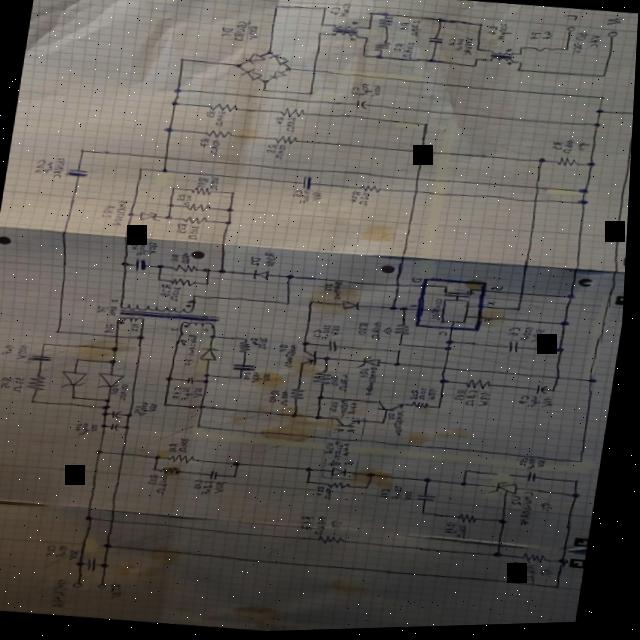capacitor: (28, 352, 56, 363), (233, 363, 260, 374), (63, 167, 90, 178), (299, 176, 314, 192), (423, 37, 444, 48), (134, 258, 150, 272), (89, 556, 103, 572), (508, 343, 522, 358), (418, 495, 441, 504), (329, 341, 342, 355), (353, 100, 368, 112), (537, 386, 551, 398), (529, 472, 541, 486), (211, 470, 224, 481), (113, 410, 127, 420), (186, 376, 198, 385), (112, 423, 124, 432)
crossover: (411, 177, 422, 185), (440, 367, 452, 374), (160, 155, 171, 162), (120, 451, 131, 458), (307, 69, 318, 76), (532, 187, 543, 194), (518, 293, 528, 300), (417, 151, 427, 158), (393, 284, 403, 291), (531, 201, 541, 208), (111, 518, 120, 525), (411, 192, 420, 198), (555, 378, 564, 384), (200, 404, 208, 410), (114, 335, 122, 340)
diode: (96, 371, 127, 391), (61, 370, 89, 390), (359, 356, 385, 372), (237, 67, 263, 82), (266, 53, 289, 68), (242, 52, 265, 67), (201, 347, 222, 363), (251, 268, 272, 283), (342, 300, 363, 314), (139, 211, 160, 223), (266, 70, 286, 82)
junction: (560, 560, 574, 571), (560, 322, 573, 331), (576, 191, 590, 199), (535, 159, 547, 167), (566, 295, 578, 303), (285, 274, 297, 282), (439, 379, 452, 386), (576, 201, 589, 208), (495, 553, 507, 560), (588, 380, 600, 387), (162, 127, 174, 134), (165, 203, 177, 210), (234, 461, 244, 469), (500, 520, 511, 527), (159, 167, 170, 174), (79, 560, 90, 567), (210, 334, 221, 341), (425, 59, 436, 66), (434, 19, 445, 26), (574, 495, 584, 502), (157, 263, 167, 270), (591, 124, 601, 131), (218, 269, 228, 276), (137, 334, 148, 340), (319, 395, 328, 402), (324, 356, 333, 363), (127, 412, 136, 419), (593, 111, 603, 117), (172, 88, 182, 94), (426, 479, 436, 485), (111, 346, 121, 352), (88, 515, 98, 521), (307, 467, 317, 473), (104, 563, 114, 569), (303, 342, 313, 348), (389, 307, 399, 313), (400, 307, 410, 313), (104, 404, 114, 410), (226, 207, 234, 214), (225, 220, 233, 227), (233, 63, 241, 70), (556, 350, 567, 355), (121, 261, 130, 267), (166, 376, 175, 382), (98, 449, 107, 455), (586, 164, 595, 170), (107, 543, 116, 549), (395, 362, 404, 368), (317, 415, 326, 421), (169, 100, 178, 106), (421, 123, 430, 129), (204, 268, 213, 274), (292, 414, 302, 419), (164, 215, 174, 220), (204, 374, 214, 379), (446, 342, 456, 347), (469, 65, 477, 71), (233, 475, 241, 481), (104, 411, 112, 417), (283, 67, 291, 73), (127, 211, 135, 217), (462, 483, 471, 488), (111, 359, 120, 364), (475, 24, 484, 29), (258, 88, 267, 93), (513, 70, 522, 75), (516, 309, 525, 314), (306, 481, 315, 486), (446, 348, 455, 353), (398, 344, 407, 349), (105, 398, 114, 403), (102, 424, 111, 429), (125, 425, 134, 430), (379, 13, 388, 18), (260, 80, 269, 85), (137, 166, 144, 172), (157, 277, 163, 284), (157, 455, 165, 460), (78, 148, 86, 153), (177, 58, 185, 63), (285, 302, 293, 307), (31, 399, 39, 404), (55, 329, 63, 334), (576, 482, 584, 487), (270, 5, 278, 10), (228, 191, 236, 196), (558, 587, 566, 592), (309, 301, 317, 306), (72, 394, 80, 399), (465, 471, 473, 476), (164, 403, 172, 408), (305, 92, 313, 97), (370, 473, 378, 478), (598, 98, 606, 103), (397, 350, 405, 355), (374, 56, 382, 61), (598, 76, 606, 81), (319, 7, 327, 12), (263, 51, 271, 56), (170, 187, 178, 192), (204, 380, 212, 385), (360, 54, 366, 60), (581, 461, 587, 467), (315, 32, 321, 38), (423, 513, 430, 518), (366, 12, 373, 17), (77, 356, 83, 361), (629, 114, 635, 119), (43, 341, 49, 346), (439, 407, 445, 412), (198, 424, 204, 429), (318, 23, 324, 28), (154, 467, 160, 472), (205, 282, 211, 287), (382, 422, 388, 427), (193, 294, 199, 299), (552, 391, 559, 395), (473, 49, 480, 53), (365, 27, 370, 32), (368, 487, 374, 491), (239, 377, 245, 381), (362, 38, 368, 42), (472, 60, 478, 64), (515, 64, 523, 67), (517, 49, 523, 53), (562, 50, 568, 54), (244, 338, 249, 342), (516, 54, 521, 58)
resistor: (312, 369, 335, 389), (466, 379, 496, 394), (27, 373, 49, 392), (319, 534, 351, 547), (278, 106, 306, 120), (523, 554, 552, 567), (207, 102, 238, 114), (203, 129, 233, 141), (184, 202, 213, 214), (173, 263, 202, 275), (181, 214, 210, 226), (169, 454, 198, 466), (356, 184, 383, 196), (170, 277, 198, 288), (273, 134, 298, 146), (555, 158, 579, 170), (189, 186, 215, 197), (461, 515, 484, 527), (290, 387, 307, 402), (237, 340, 254, 355), (395, 325, 413, 339), (375, 17, 393, 31), (330, 482, 355, 492), (371, 41, 390, 54), (162, 466, 185, 475), (413, 403, 432, 411)
terminal: (604, 33, 618, 42), (100, 582, 113, 591), (75, 581, 89, 589), (564, 28, 575, 36)
text: (520, 493, 540, 528), (111, 199, 131, 228), (186, 332, 201, 367), (367, 368, 382, 398), (570, 33, 587, 58), (54, 588, 73, 610), (285, 344, 301, 370), (395, 413, 410, 438), (231, 20, 247, 42), (52, 156, 67, 179), (431, 299, 445, 323), (370, 322, 386, 342), (112, 582, 129, 600), (494, 25, 511, 43), (335, 2, 352, 20), (331, 282, 346, 302), (316, 517, 331, 537), (243, 24, 259, 42), (159, 475, 172, 497), (467, 391, 482, 410), (339, 374, 353, 394), (400, 42, 414, 62), (263, 252, 279, 269), (17, 342, 32, 360), (169, 285, 184, 303), (207, 139, 222, 157), (282, 117, 297, 134), (213, 111, 228, 128), (14, 376, 29, 393), (512, 563, 528, 578), (187, 225, 202, 241), (302, 517, 318, 532), (526, 569, 541, 585), (461, 38, 473, 58), (59, 543, 74, 559), (521, 328, 536, 344), (532, 330, 548, 345), (136, 240, 150, 257), (406, 22, 419, 40), (120, 383, 132, 402), (336, 442, 348, 461), (479, 393, 494, 408), (585, 37, 600, 52), (204, 480, 218, 496), (101, 204, 117, 218), (32, 158, 46, 174), (281, 391, 294, 408), (274, 144, 287, 161), (159, 284, 174, 298), (447, 524, 462, 538), (459, 527, 473, 542), (394, 487, 408, 502), (358, 84, 372, 99), (562, 142, 576, 157), (182, 387, 196, 402), (2, 375, 17, 389), (603, 19, 622, 30), (180, 438, 193, 454), (357, 323, 371, 337), (529, 397, 543, 411), (455, 391, 471, 403), (322, 325, 334, 341), (195, 177, 211, 189), (175, 222, 189, 235), (48, 544, 62, 557), (253, 371, 266, 385), (270, 391, 283, 405), (146, 241, 159, 255), (3, 343, 17, 356), (57, 577, 71, 590), (542, 399, 557, 411), (542, 503, 557, 515), (509, 328, 524, 340), (359, 194, 371, 209), (209, 176, 221, 191), (141, 402, 153, 417), (217, 26, 233, 37), (342, 401, 352, 418), (217, 482, 230, 495), (348, 192, 361, 205), (193, 387, 206, 400), (326, 443, 339, 456), (149, 474, 163, 486), (513, 497, 527, 509), (359, 369, 373, 381), (429, 389, 441, 403), (180, 252, 192, 266), (264, 143, 278, 155), (198, 137, 212, 149), (333, 520, 348, 531), (82, 421, 93, 436), (299, 191, 310, 206), (543, 570, 558, 581), (560, 16, 578, 25), (484, 26, 496, 39), (72, 549, 85, 561), (105, 322, 118, 334), (369, 86, 381, 99), (310, 192, 323, 204), (173, 387, 185, 400), (381, 490, 395, 501), (529, 459, 540, 473), (452, 39, 463, 53), (249, 256, 263, 267), (576, 145, 591, 155), (344, 444, 354, 459), (195, 479, 207, 491), (170, 442, 182, 454), (406, 492, 418, 504), (131, 322, 143, 334), (411, 391, 423, 403), (259, 338, 270, 351), (520, 397, 533, 408), (332, 325, 343, 338), (43, 161, 54, 174), (350, 403, 361, 416), (96, 304, 111, 313), (317, 487, 329, 498), (331, 377, 343, 388), (330, 402, 342, 413), (279, 343, 291, 354), (312, 330, 325, 340), (540, 33, 553, 43), (551, 144, 564, 154), (204, 110, 217, 120), (327, 489, 337, 502), (421, 389, 430, 403), (521, 459, 533, 469), (384, 327, 396, 337), (391, 44, 403, 54), (326, 8, 339, 17), (250, 338, 263, 347), (528, 34, 541, 43), (273, 117, 286, 126), (539, 462, 550, 472), (109, 306, 119, 317), (264, 373, 275, 383), (348, 87, 359, 97), (398, 23, 409, 33), (130, 242, 141, 252), (170, 254, 182, 263), (323, 284, 335, 293), (184, 195, 193, 207), (445, 39, 455, 49), (151, 403, 161, 413), (293, 190, 304, 199), (388, 414, 399, 423), (135, 405, 145, 414), (176, 194, 187, 202), (438, 332, 450, 339), (492, 287, 506, 293), (245, 373, 254, 382), (113, 387, 122, 396), (77, 422, 86, 431), (93, 423, 102, 432), (181, 339, 191, 347), (412, 279, 424, 285), (409, 304, 419, 311), (487, 303, 498, 309), (188, 299, 198, 305), (172, 327, 182, 333), (0, 340, 4, 354), (485, 320, 496, 325), (110, 298, 119, 304), (202, 328, 211, 334)
thyristor: (492, 481, 523, 499)
transformer: (117, 296, 227, 335), (329, 20, 360, 44), (485, 47, 516, 69)
transistor: (300, 350, 326, 369), (379, 402, 409, 415)
